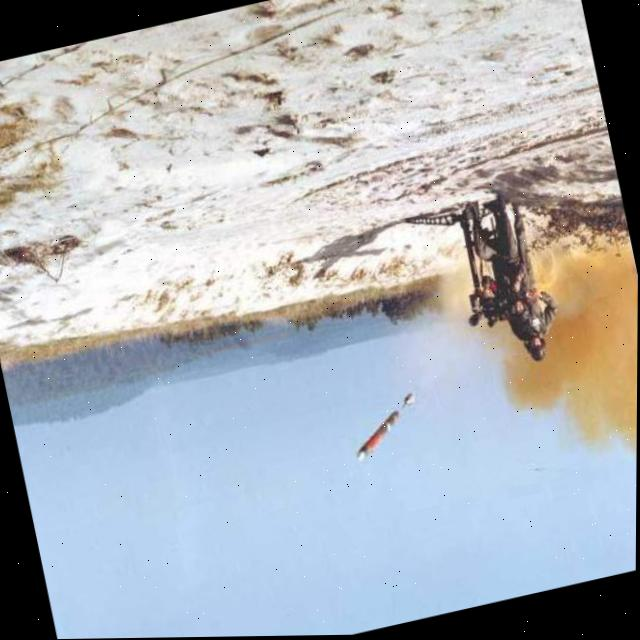missile: (342, 402, 413, 467)
